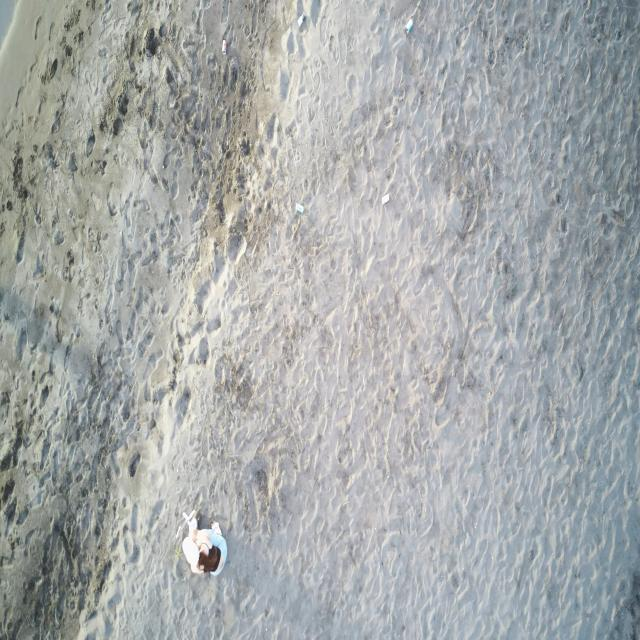Garbage: (176, 510, 195, 537), (404, 19, 412, 33), (296, 13, 304, 27), (221, 39, 226, 54), (296, 203, 303, 212), (382, 193, 388, 203)
